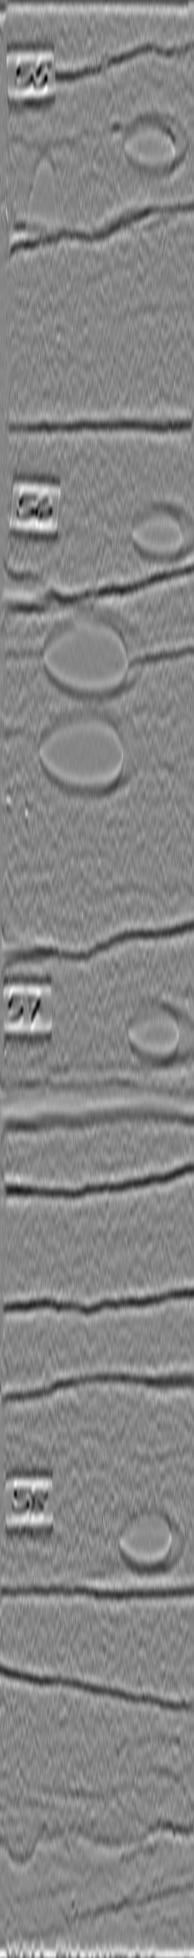hplug: (111, 1500, 188, 1580), (120, 991, 194, 1071), (118, 106, 194, 182), (124, 496, 194, 567)
scal: (38, 606, 158, 708), (33, 711, 150, 804)
vplug: (16, 62, 90, 246)
